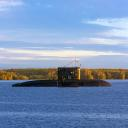submarine: (11, 64, 114, 87)
